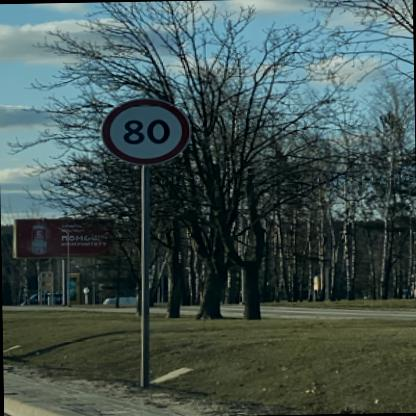speedlimit: (98, 96, 188, 164)
